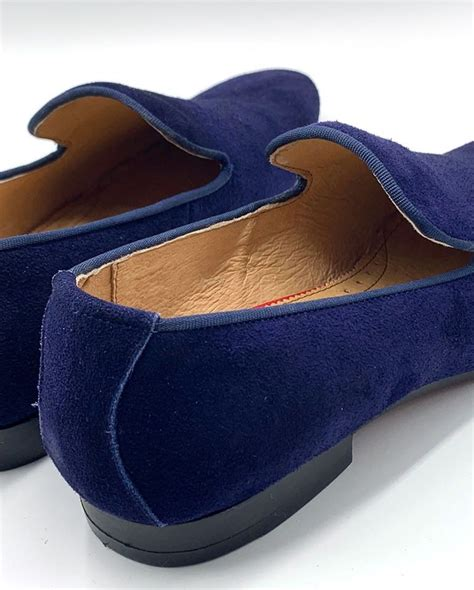gamuza: (1, 67, 474, 526)
